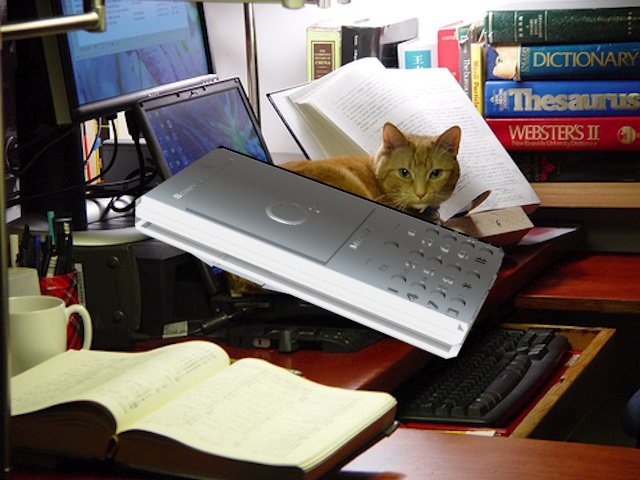mobile_phone: (129, 145, 512, 368)
